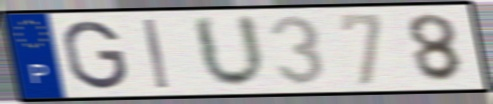3: (267, 13, 330, 88)
7: (337, 12, 388, 88)
8: (405, 12, 467, 85)
G: (60, 18, 131, 92)
I: (140, 17, 172, 91)
U: (188, 12, 271, 92)
